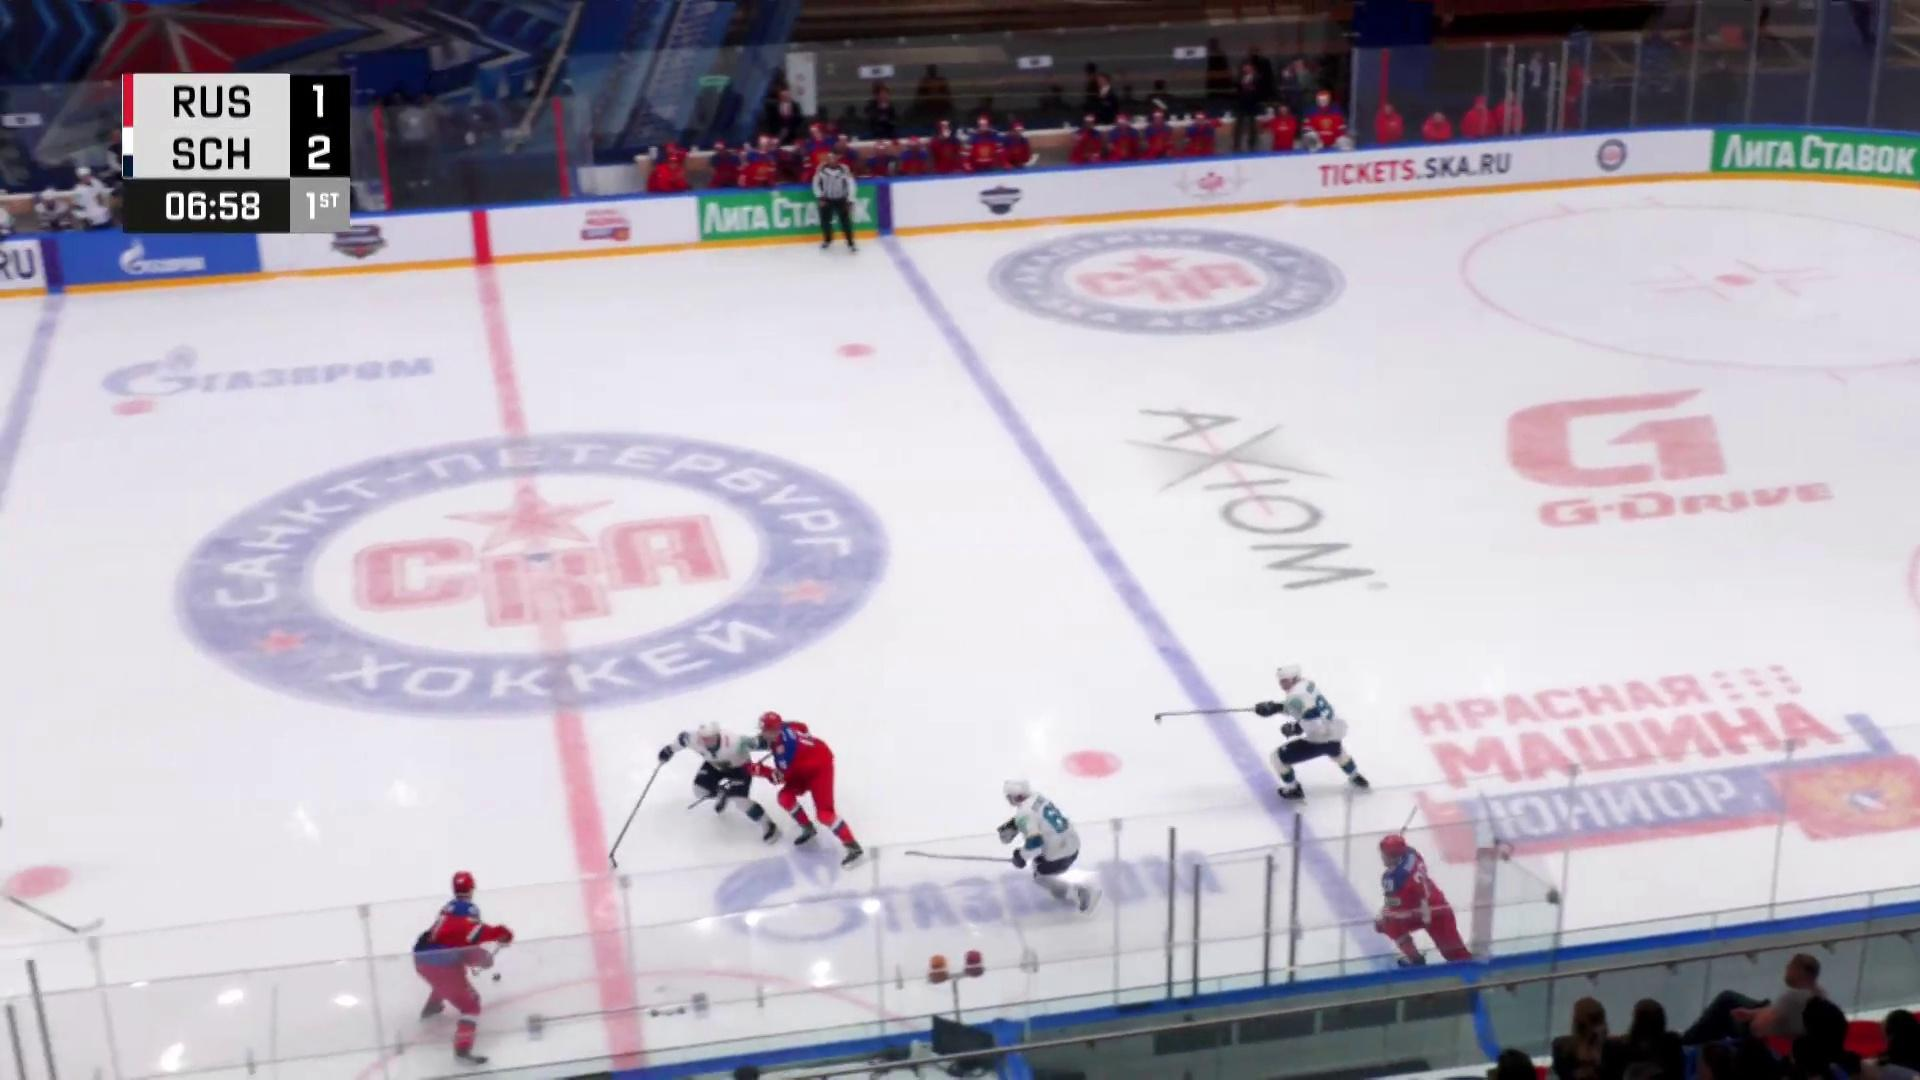ball: (492, 973, 502, 982)
